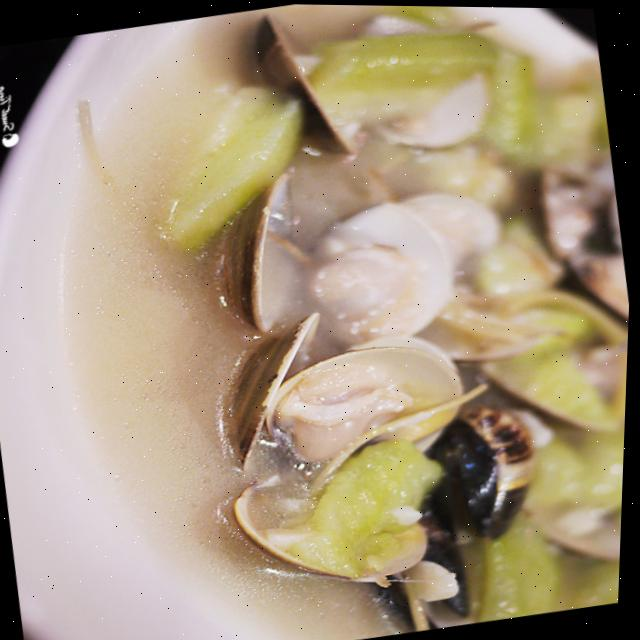Wet: (62, 9, 640, 640)
